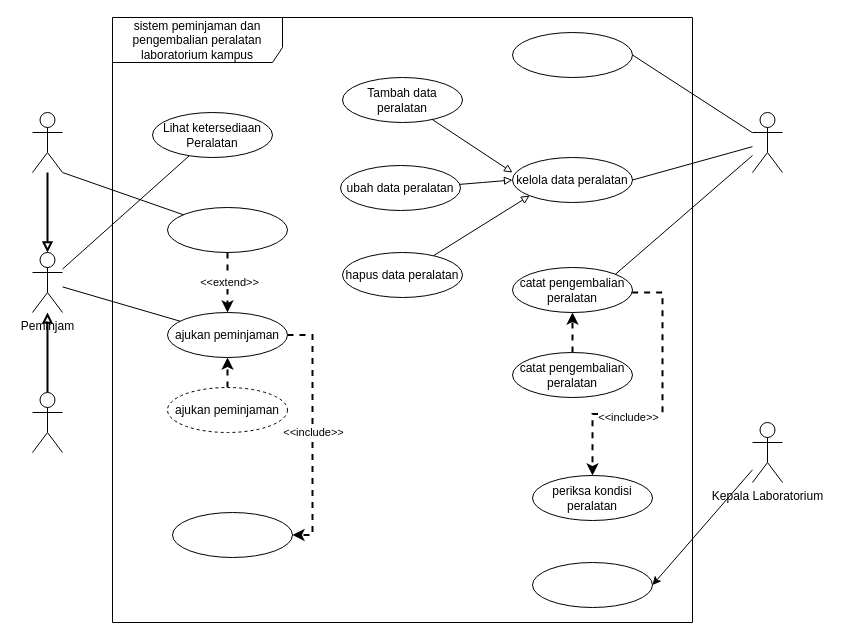
Image size: 843x640. Some labels were removed from this diagram. Here are the shapes that lost their labels. From the top down, the centre of each, then its label:
At (572,55): "proses keputusan peminjaman".
At (47,142): "Mahasiswa".
At (767,142): "Petugas Laboratorium".
At (227,229): "cek bukti pengajuan".
At (47,422): "Dosen".
At (232,535): "periksa ketersediaan".
At (592,585): "lihat laporan peminjaman".
